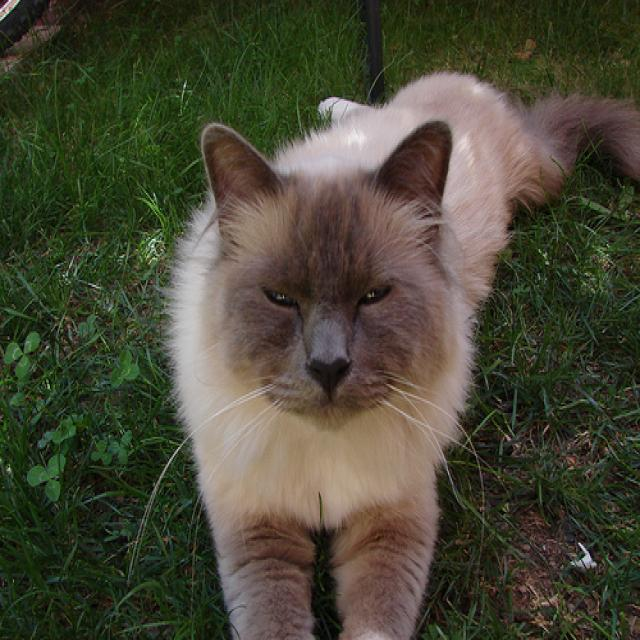Birman: (196, 116, 458, 443)
